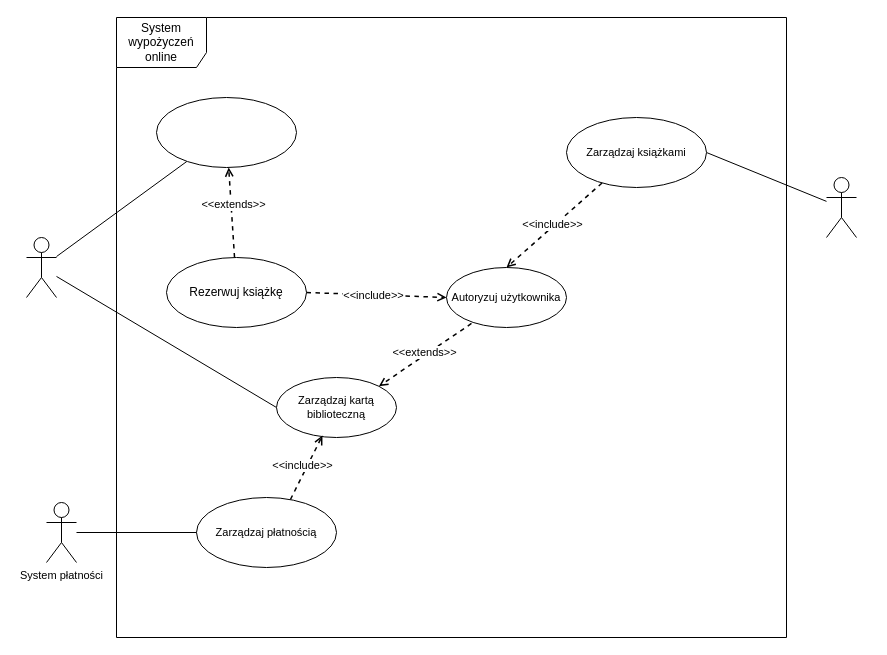
Image size: 887x655. Some labels were removed from this diagram. Each missing label, with the centre of its shape:
Bibliotekarz: the point at 841,207
Czytelnik: the point at 41,267
Wyszukaj książkę: the point at 226,132
